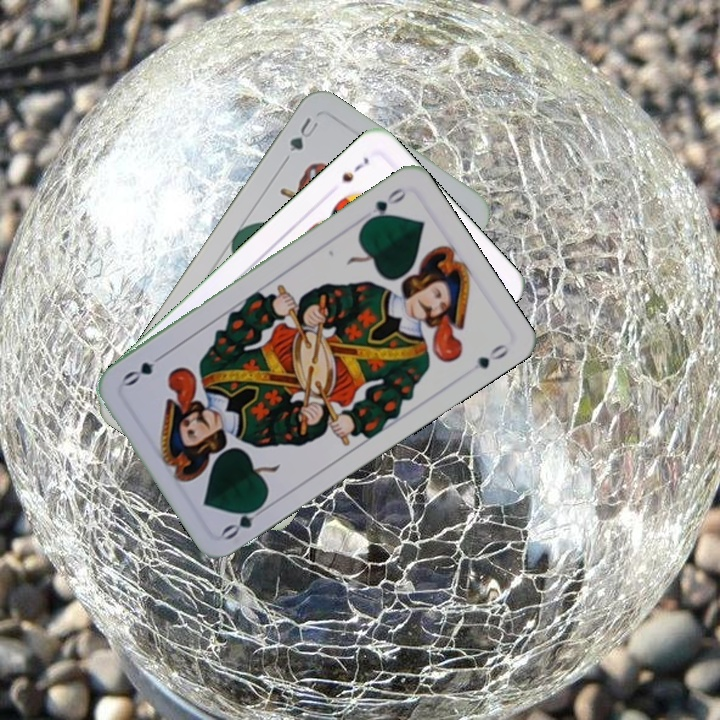GO: (218, 497, 272, 543), (360, 184, 409, 227)
GU: (285, 113, 321, 157)
S7: (337, 152, 372, 185)
